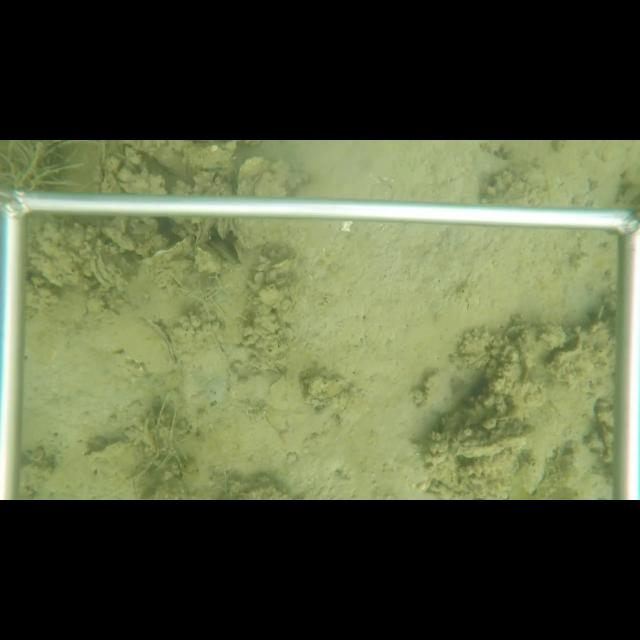Oyster-Closed: (120, 311, 177, 375), (194, 219, 206, 252)
Oyster-Open: (88, 253, 119, 289)
